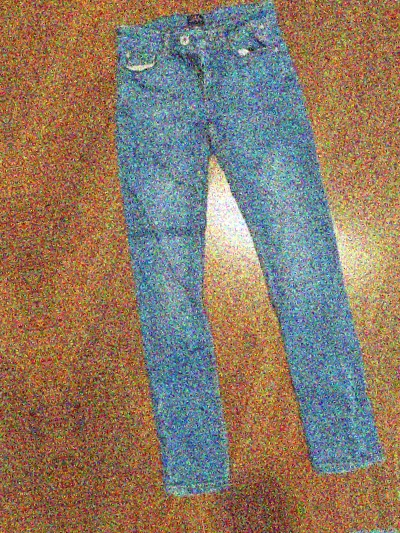Pants: (55, 0, 400, 514), (0, 43, 10, 533), (146, 516, 400, 533)
